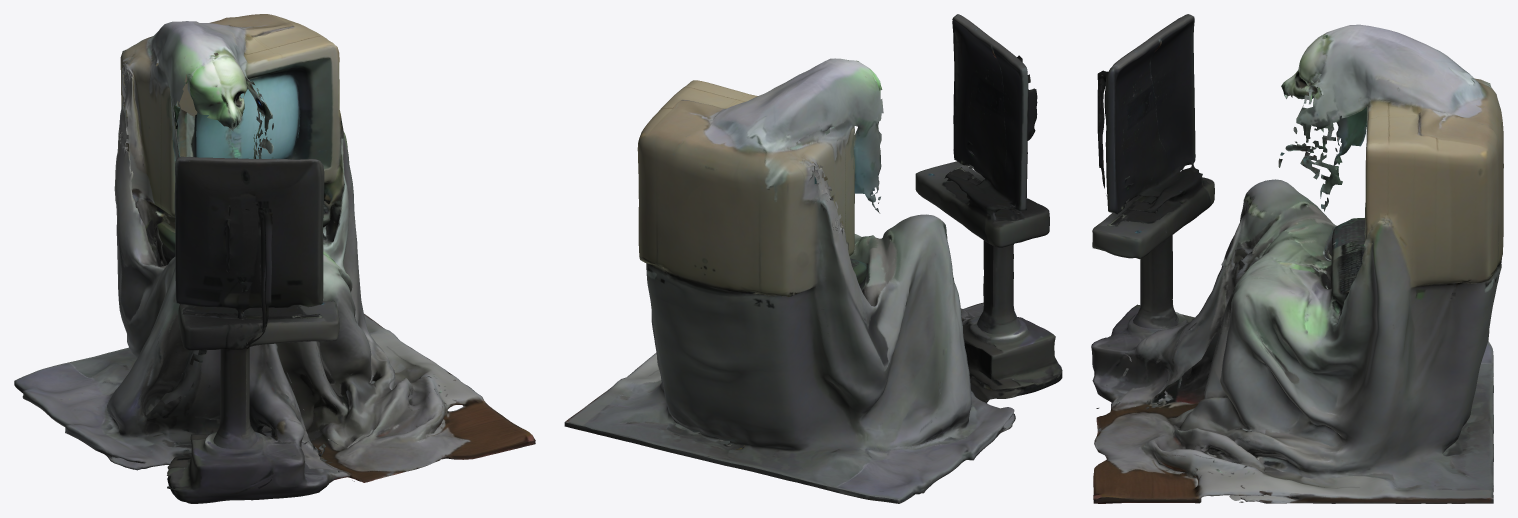
Rendered from Doomscroller.fbx.
3 views of the same model, side by side, from view 1: azimuth 30°, elevation 25°; view 2: azimuth 150°, elevation 25°; view 3: azimuth 270°, elevation 25° (orthographic). The views are drawn at different scales.
Visible parts, largest first — view 1: Mesh0; view 2: Mesh0; view 3: Mesh0.
Boxes of the visible parts, x1,y1,x2,y2 form: Mesh0: (14,14,535,503); Mesh0: (564,14,1062,503); Mesh0: (1091,14,1503,503).
Size of the model in its own units: 196 by 199 by 200.
Materials: 1 (1 with a texture image).
